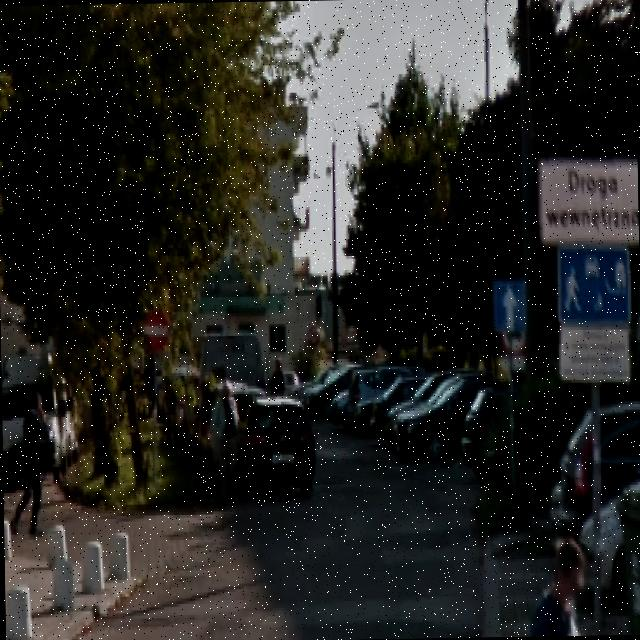Zakaz wjazdu: (139, 306, 164, 362)
